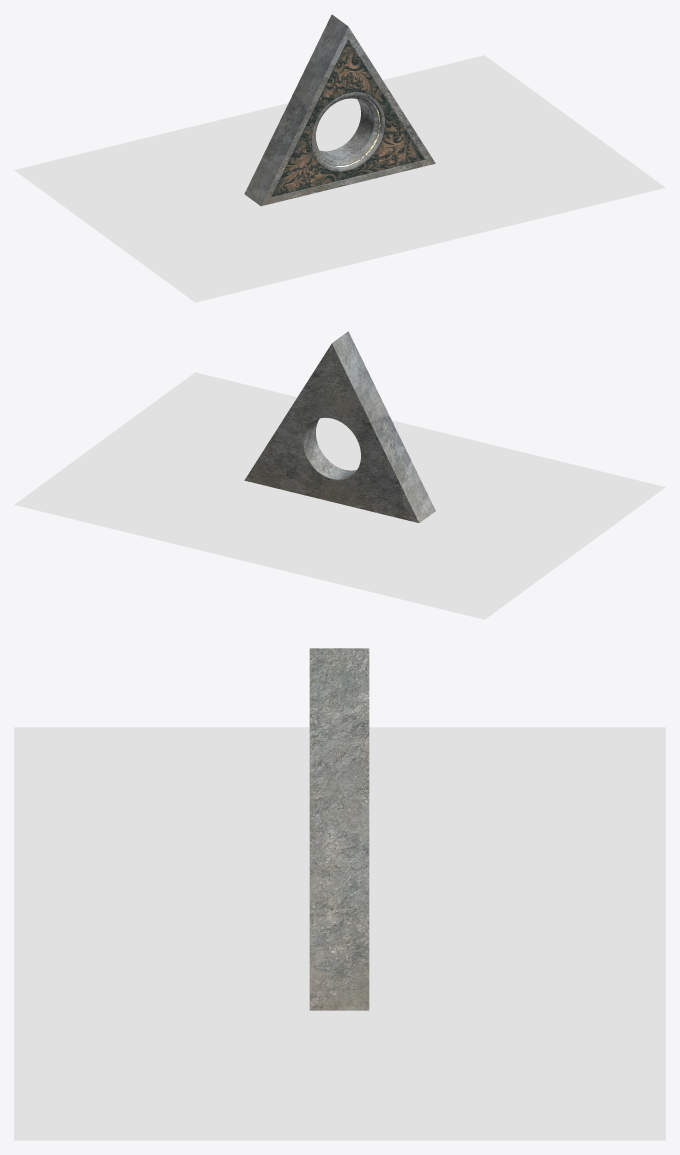
File: triangulium_-_obscure_triangle_object.glb
3 views of the same model, one above another, from view 1: azimuth 30°, elevation 25°; view 2: azimuth 150°, elevation 25°; view 3: azimuth 270°, elevation 25° (orthographic). The views are drawn at different scales.
Visible parts, largest first — view 1: Ground_0, Triangul_1; view 2: Ground_0, Triangul_1; view 3: Ground_0, Triangul_1.
Boxes of the visible parts, <box> form: Ground_0: <box>14,55,665,302</box>; Triangul_1: <box>244,14,435,206</box>; Ground_0: <box>14,372,665,619</box>; Triangul_1: <box>244,331,435,522</box>; Ground_0: <box>14,727,665,1140</box>; Triangul_1: <box>309,648,369,1010</box>.
Bounding box in the file's own units: 10.78 × 3.47 × 7.18.
Materials: 2 (2 with a texture image).
